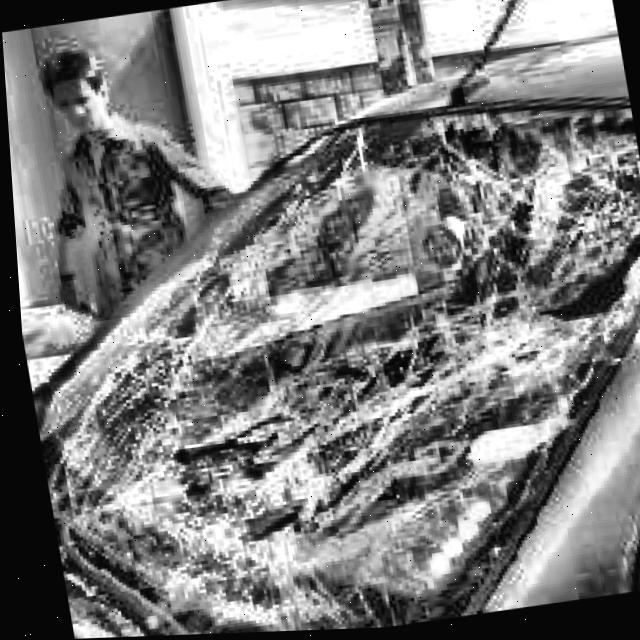glass_shatter: (152, 327, 478, 505), (431, 95, 640, 201), (525, 219, 640, 342)
